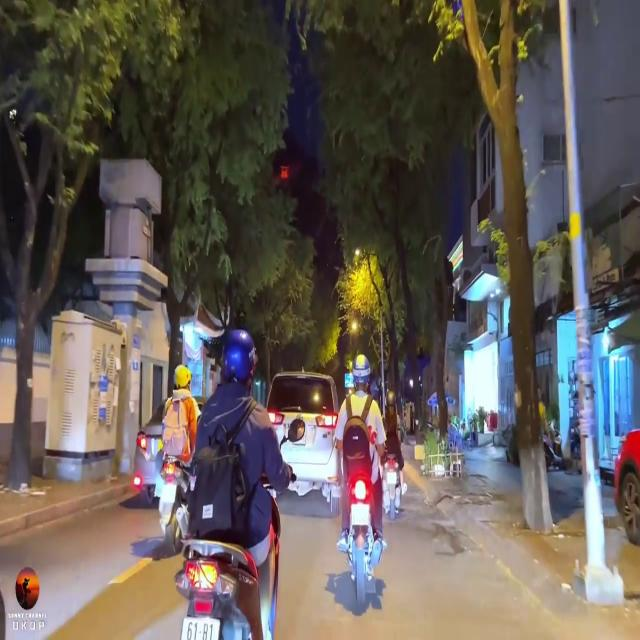bien_trang: (182, 617, 222, 640)
